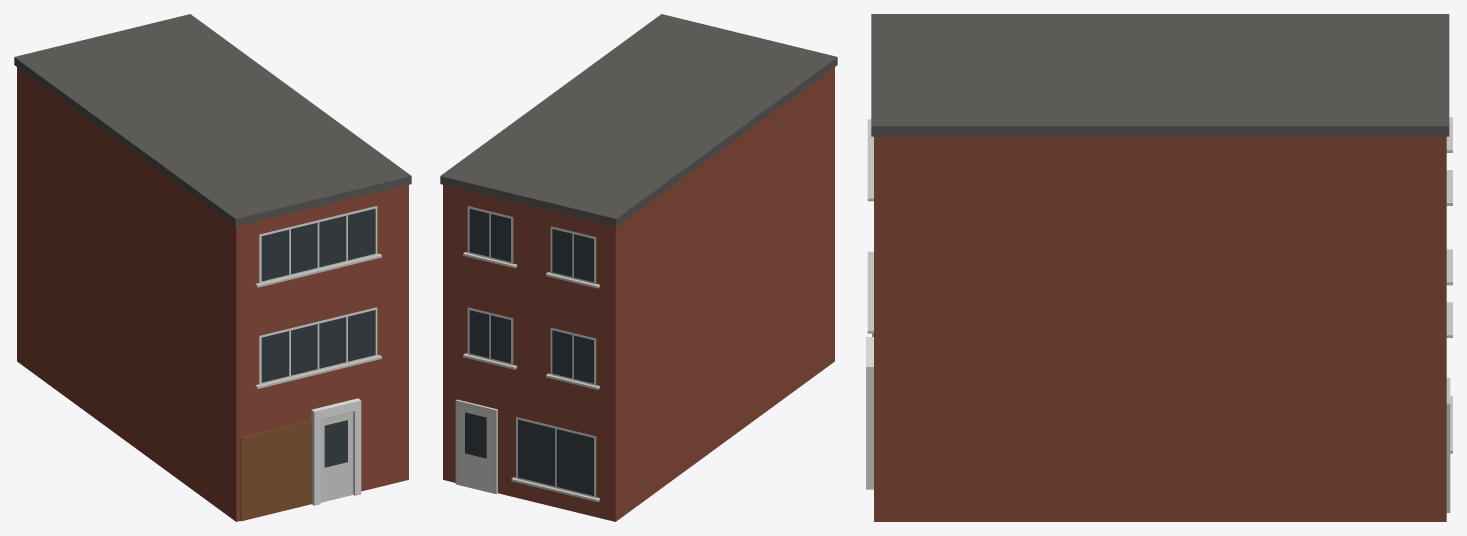
The model's file is nw-os-garage__brick__3__flat__long__solid.glb.
3 renders of one model, left to right at view 1: azimuth 30°, elevation 25°; view 2: azimuth 150°, elevation 25°; view 3: azimuth 270°, elevation 25°, orthographic. The views are drawn at different scales.
Parts seen in each view (by area): view 1: nw-os-garage__brick__3__flat__long__solid; view 2: nw-os-garage__brick__3__flat__long__solid; view 3: nw-os-garage__brick__3__flat__long__solid.
Boxes of the visible parts, box(x1,y1,x2,y2) form: nw-os-garage__brick__3__flat__long__solid: box(14, 14, 411, 521); nw-os-garage__brick__3__flat__long__solid: box(440, 14, 837, 521); nw-os-garage__brick__3__flat__long__solid: box(866, 14, 1452, 521).
Size of the model in its own units: 5.1 by 8.41 by 11.27.
